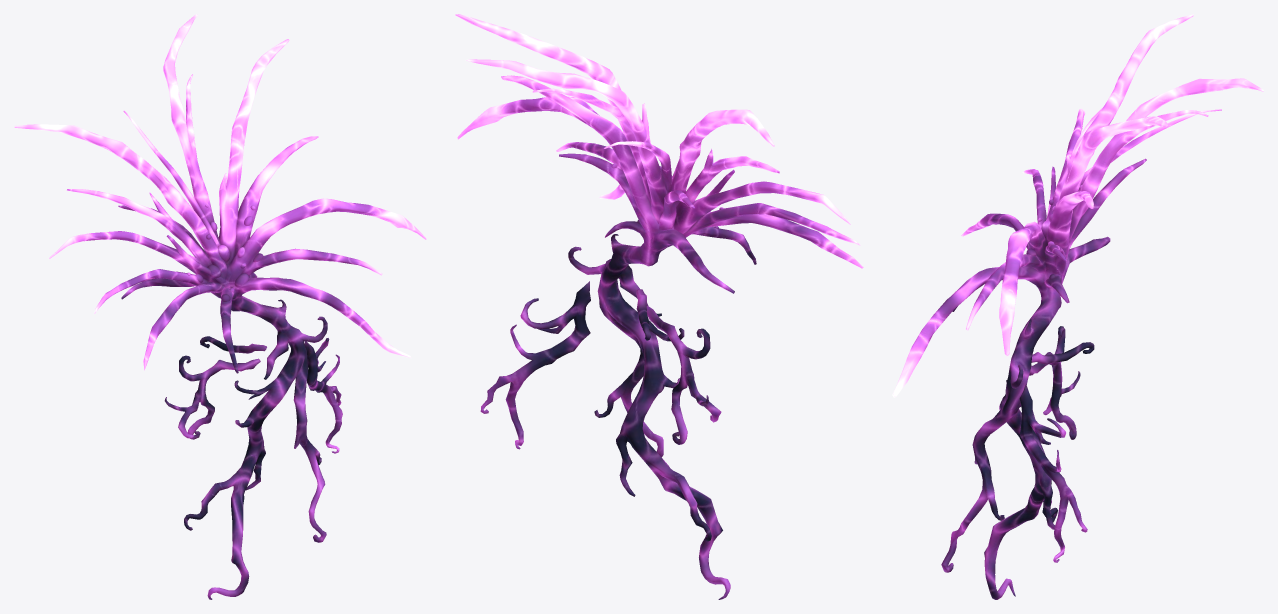
File: caos_sts_chaosplant_01a_v35.glb
3 renders of one model, left to right at view 1: azimuth 30°, elevation 25°; view 2: azimuth 150°, elevation 25°; view 3: azimuth 270°, elevation 25°, orthographic. The views are drawn at different scales.
Visible parts, largest first — view 1: caos_sts_chaosplant_01a; view 2: caos_sts_chaosplant_01a; view 3: caos_sts_chaosplant_01a.
Part boxes in pixels (box(x1,y1,x2,y2)): caos_sts_chaosplant_01a: box(14, 14, 426, 599); caos_sts_chaosplant_01a: box(455, 14, 863, 599); caos_sts_chaosplant_01a: box(892, 14, 1263, 599).
Size of the model in its own units: 6.06 by 8.15 by 4.92.
1 material, 1 textured.
